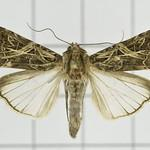Spodoptera litura: (1, 22, 150, 140)
